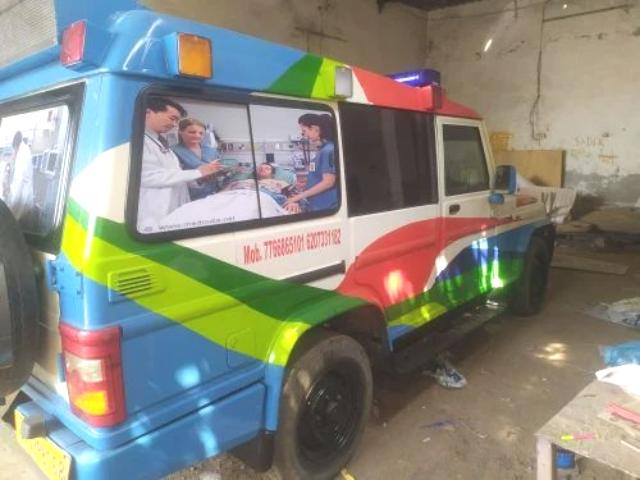ambulance: (0, 13, 564, 480)
